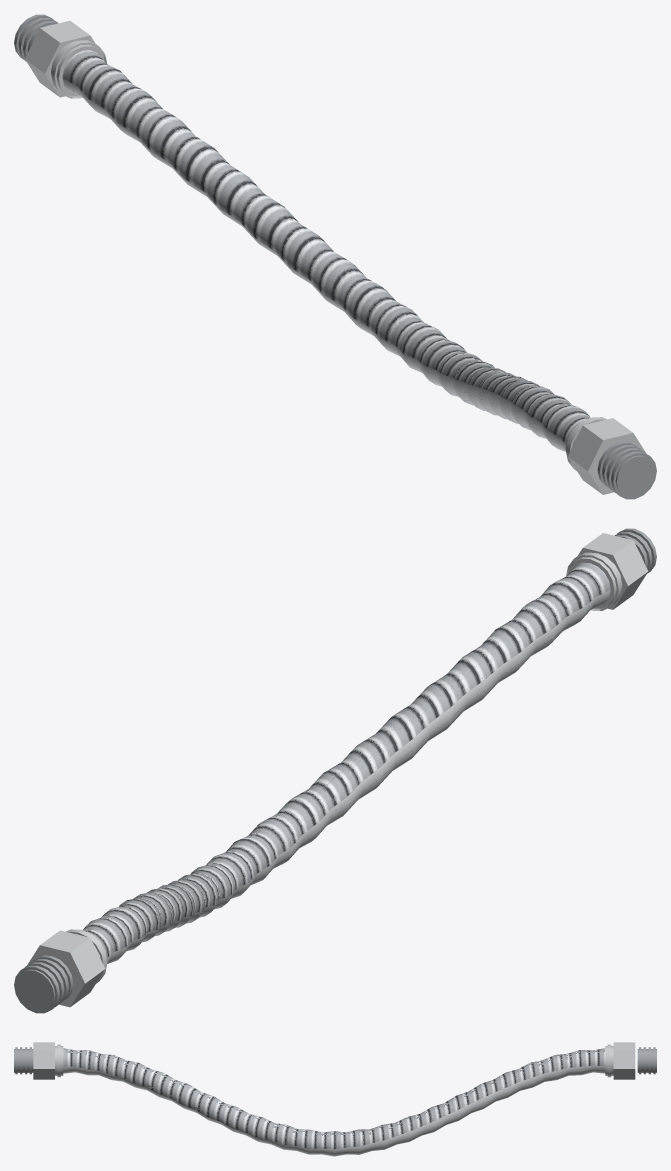
Rendered from SEC_Conduit_Flexible_Hose.fbx.
The picture shows the model from 3 angles, top to bottom: view 1: azimuth 30°, elevation 25°; view 2: azimuth 150°, elevation 25°; view 3: azimuth 270°, elevation 25°; orthographic projection. The views are drawn at different scales.
Parts seen in each view (by area): view 1: Hose_Mesh, End_Fitting_A, End_Fitting_B; view 2: Hose_Mesh, End_Fitting_B, End_Fitting_A; view 3: Hose_Mesh, End_Fitting_B, End_Fitting_A.
Boxes of the visible parts, left/top/right/bottom form: Hose_Mesh: left=62, top=50, right=590, bottom=451; End_Fitting_A: left=565, top=417, right=656, bottom=499; End_Fitting_B: left=14, top=14, right=106, bottom=98; Hose_Mesh: left=83, top=562, right=610, bottom=963; End_Fitting_B: left=14, top=929, right=107, bottom=1013; End_Fitting_A: left=566, top=528, right=656, bottom=610; Hose_Mesh: left=63, top=1048, right=605, bottom=1156; End_Fitting_B: left=605, top=1042, right=656, bottom=1079; End_Fitting_A: left=14, top=1042, right=63, bottom=1079.
Bounding box in the file's own units: 7.11 × 7.91 × 53.4.
1 material, 1 textured.
